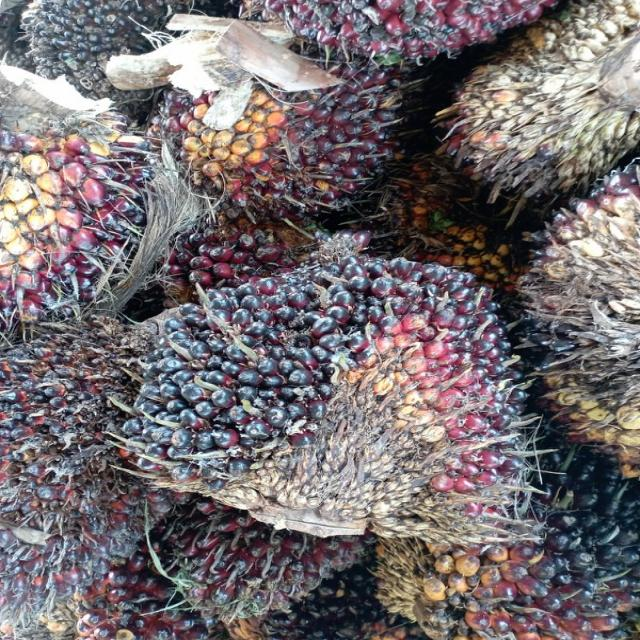fraksi 00: (133, 254, 547, 544), (14, 0, 189, 77)
fraksi 1: (147, 44, 406, 203)
